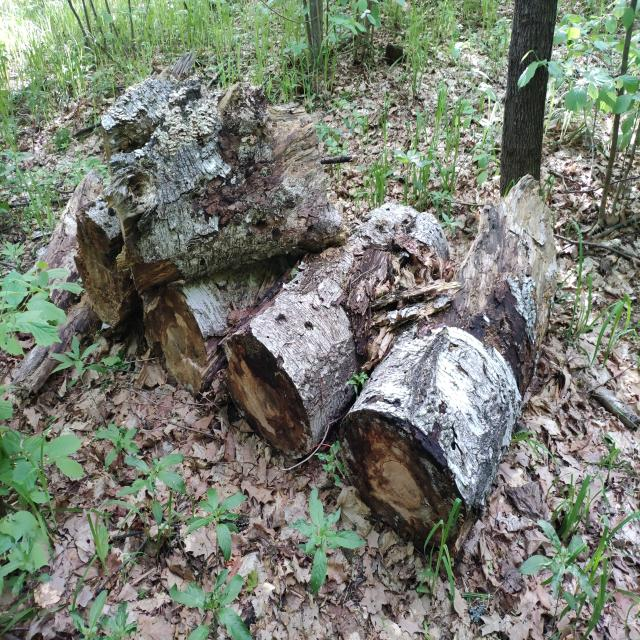restos de madeira: (119, 94, 329, 301), (353, 321, 474, 553), (453, 186, 560, 409), (233, 270, 353, 448), (324, 199, 455, 342), (137, 277, 250, 411), (70, 49, 207, 149), (70, 186, 144, 339), (10, 280, 101, 404), (38, 163, 111, 304), (0, 142, 75, 271)
